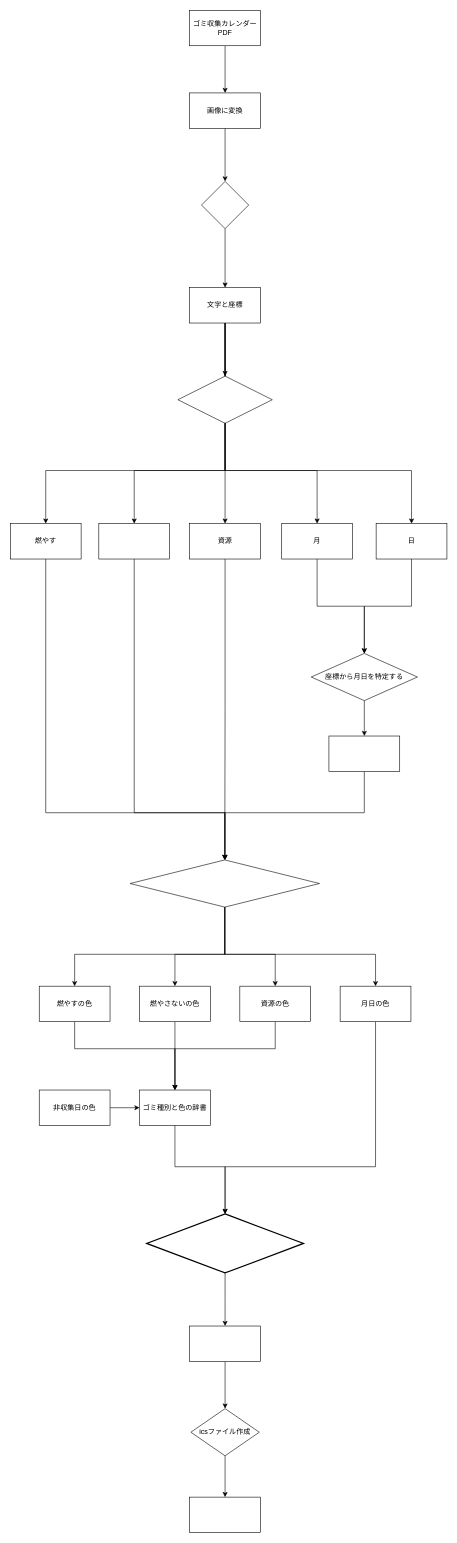
The diagram is 457 pixels wide and 1543 high, and some of its shapes have lost their labels. The shapes that lost their labels are listed below. From the top down, each one's centre as x and y in pixels, then its label:
the point at 225,205: OCR
the point at 224,399: 特定の文字列を検索する
the point at 134,541: 燃やさない
the point at 364,753: 月日
the point at 224,883: 文字列周辺で支配的な色（HSV）を特定する
the point at 225,1243: 最も近い色のゴミ種別を割り当てる
the point at 224,1343: 月日とゴミ種別
the point at 224,1515: ゴミ収集カレンダーics
